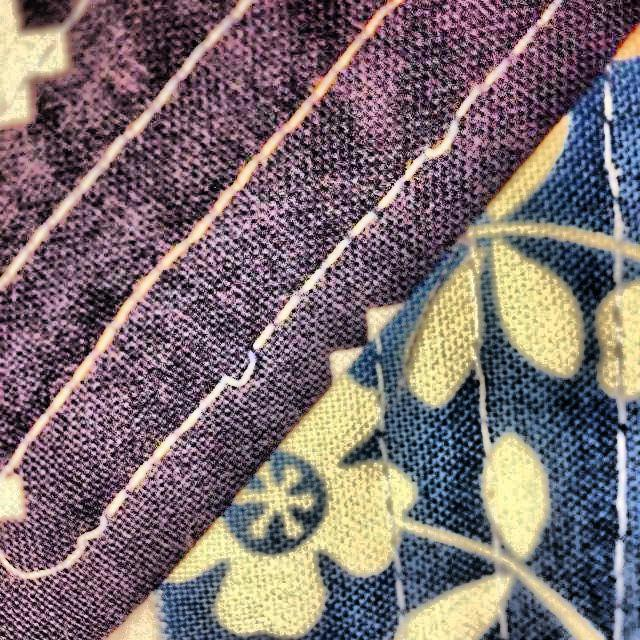gray stitch: (373, 76, 514, 189), (191, 311, 298, 423)
